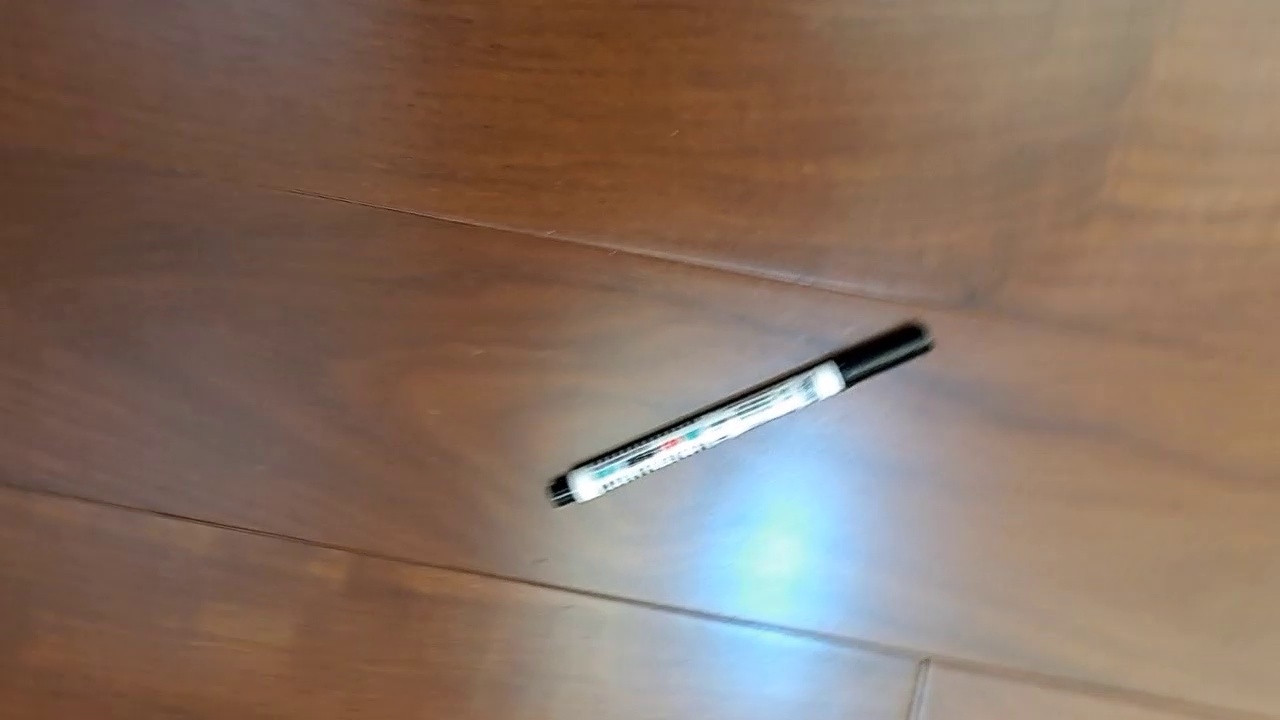pen: (544, 318, 938, 510)
